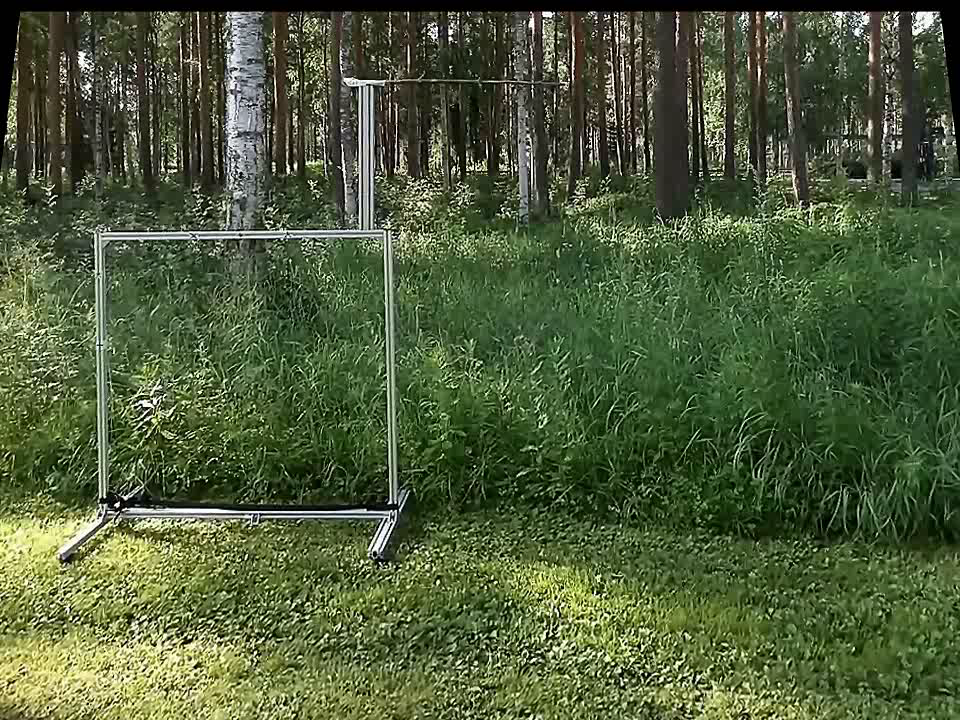aluminum_frame: (85, 224, 112, 511), (102, 503, 387, 526), (52, 488, 133, 563), (380, 226, 401, 505), (90, 227, 398, 241), (363, 485, 416, 562), (353, 86, 377, 229)
branch: (387, 69, 561, 91)
